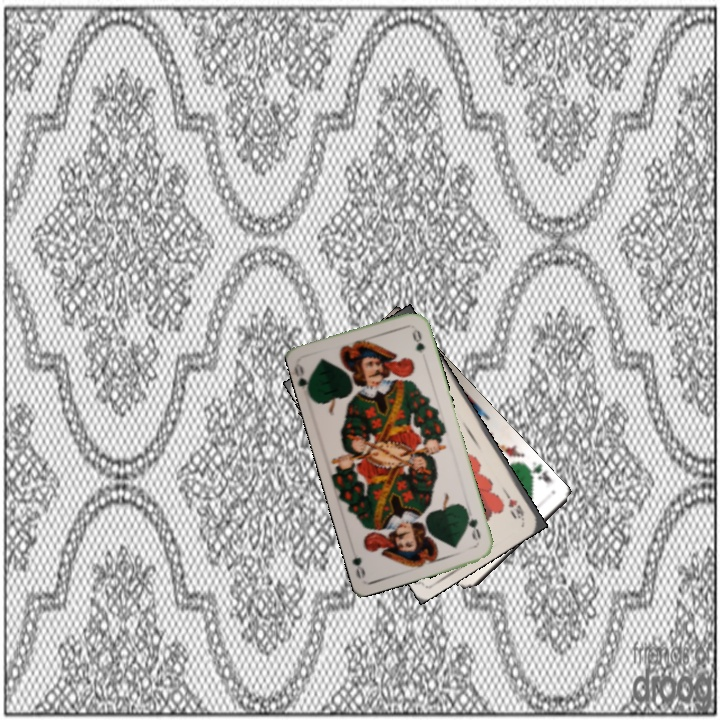GK: (523, 458, 555, 486)
GO: (292, 360, 314, 399), (462, 507, 483, 543)
H10: (499, 486, 527, 522)
